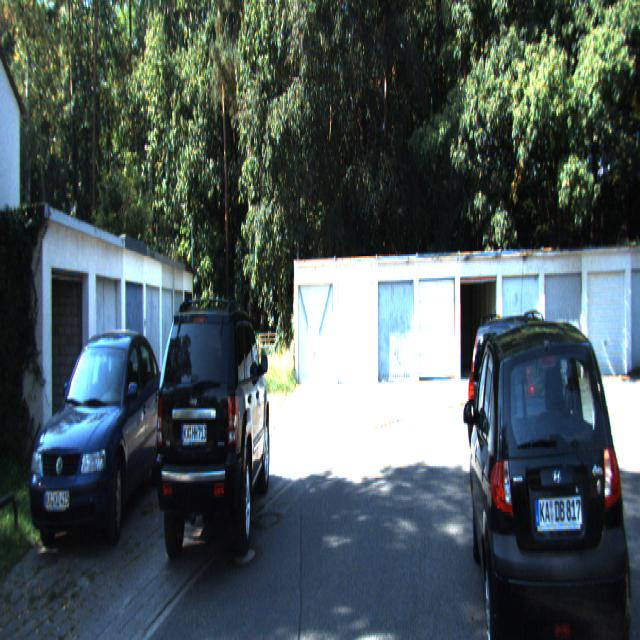Car: (466, 314, 639, 638), (26, 333, 168, 568), (154, 300, 272, 572), (466, 301, 568, 503)
